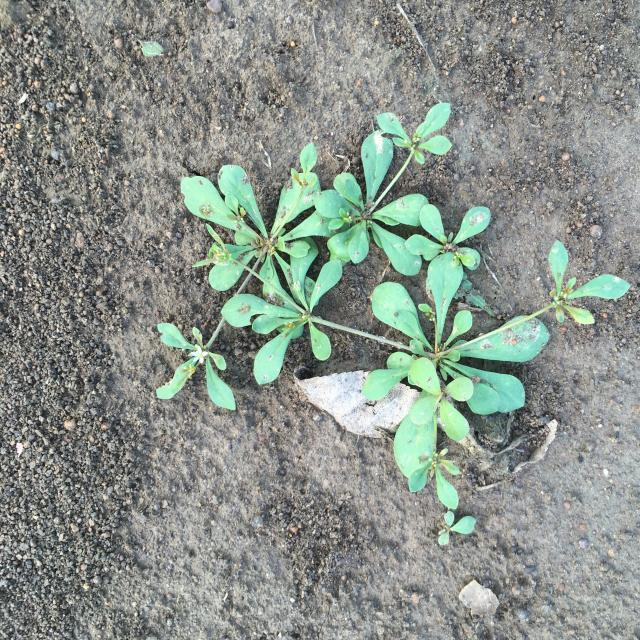Carpetweed: (156, 103, 631, 509), (438, 511, 476, 545)
